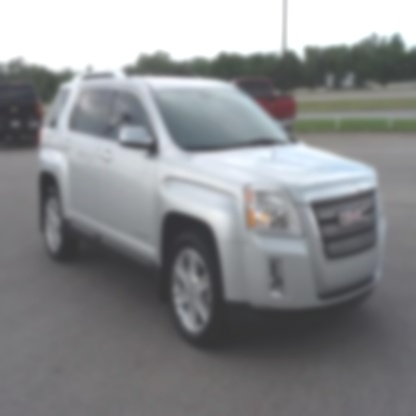Vehicle: (37, 68, 388, 350)
